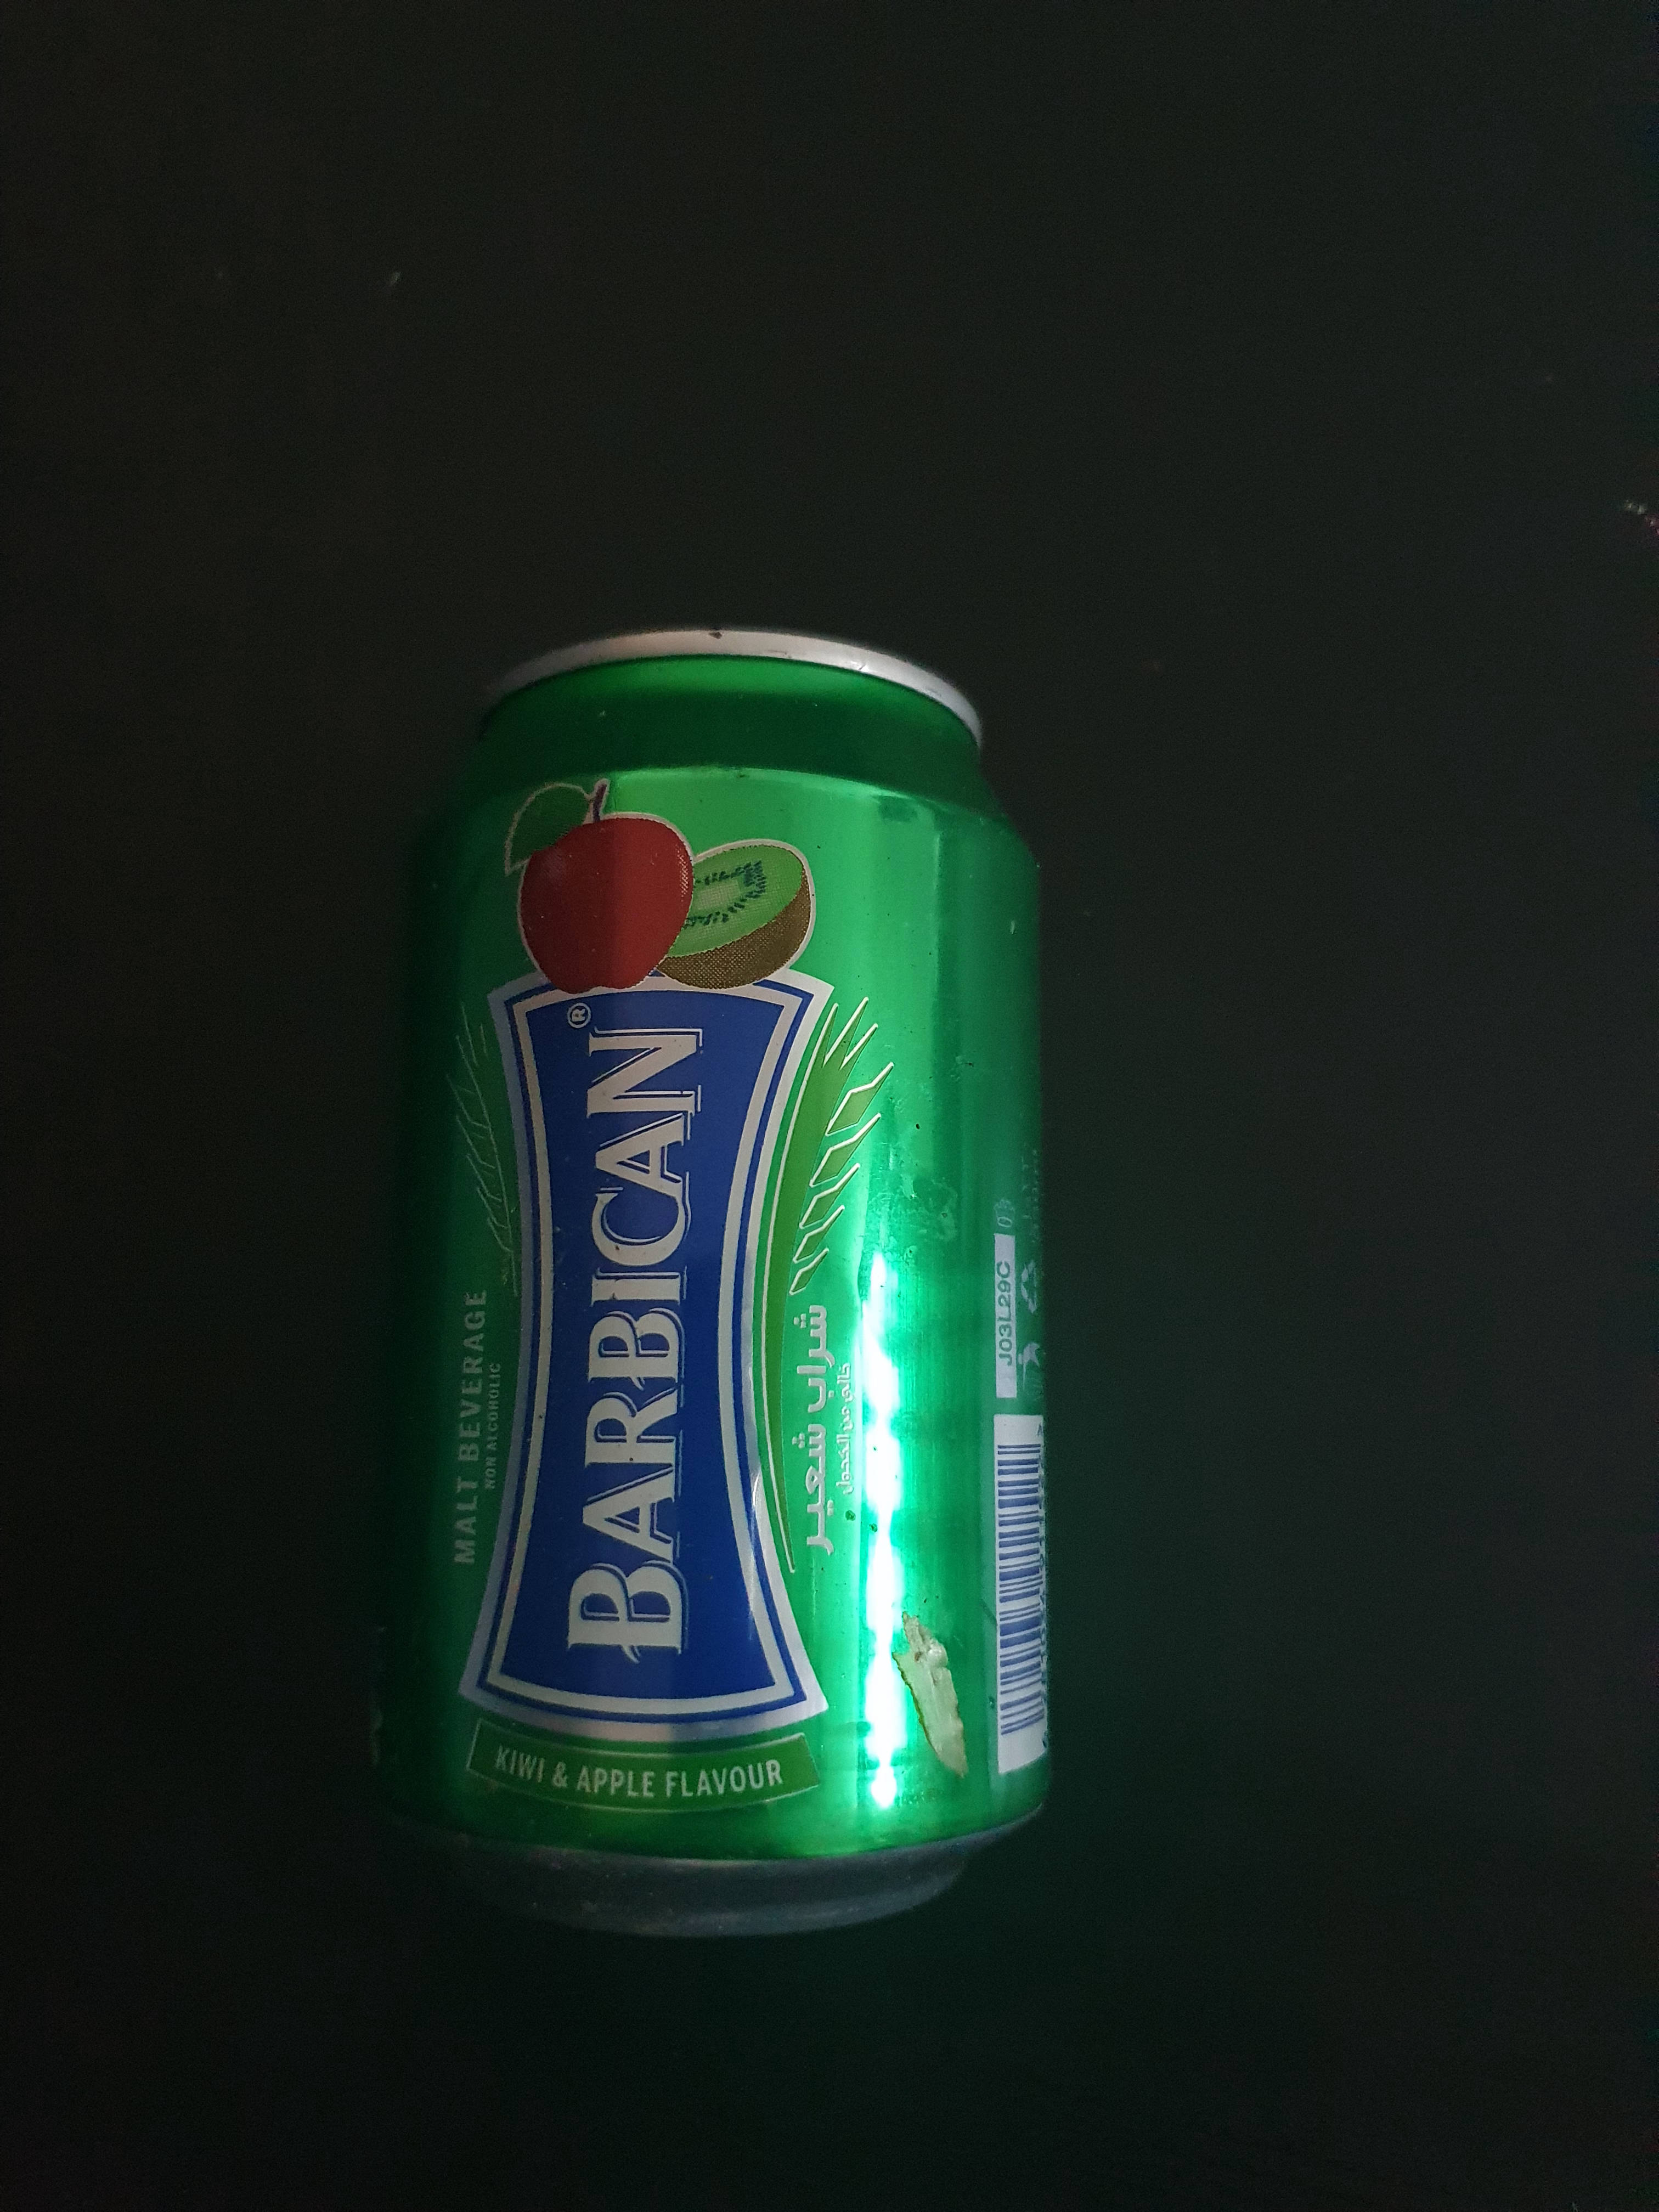metal: (352, 571, 1103, 1984)
